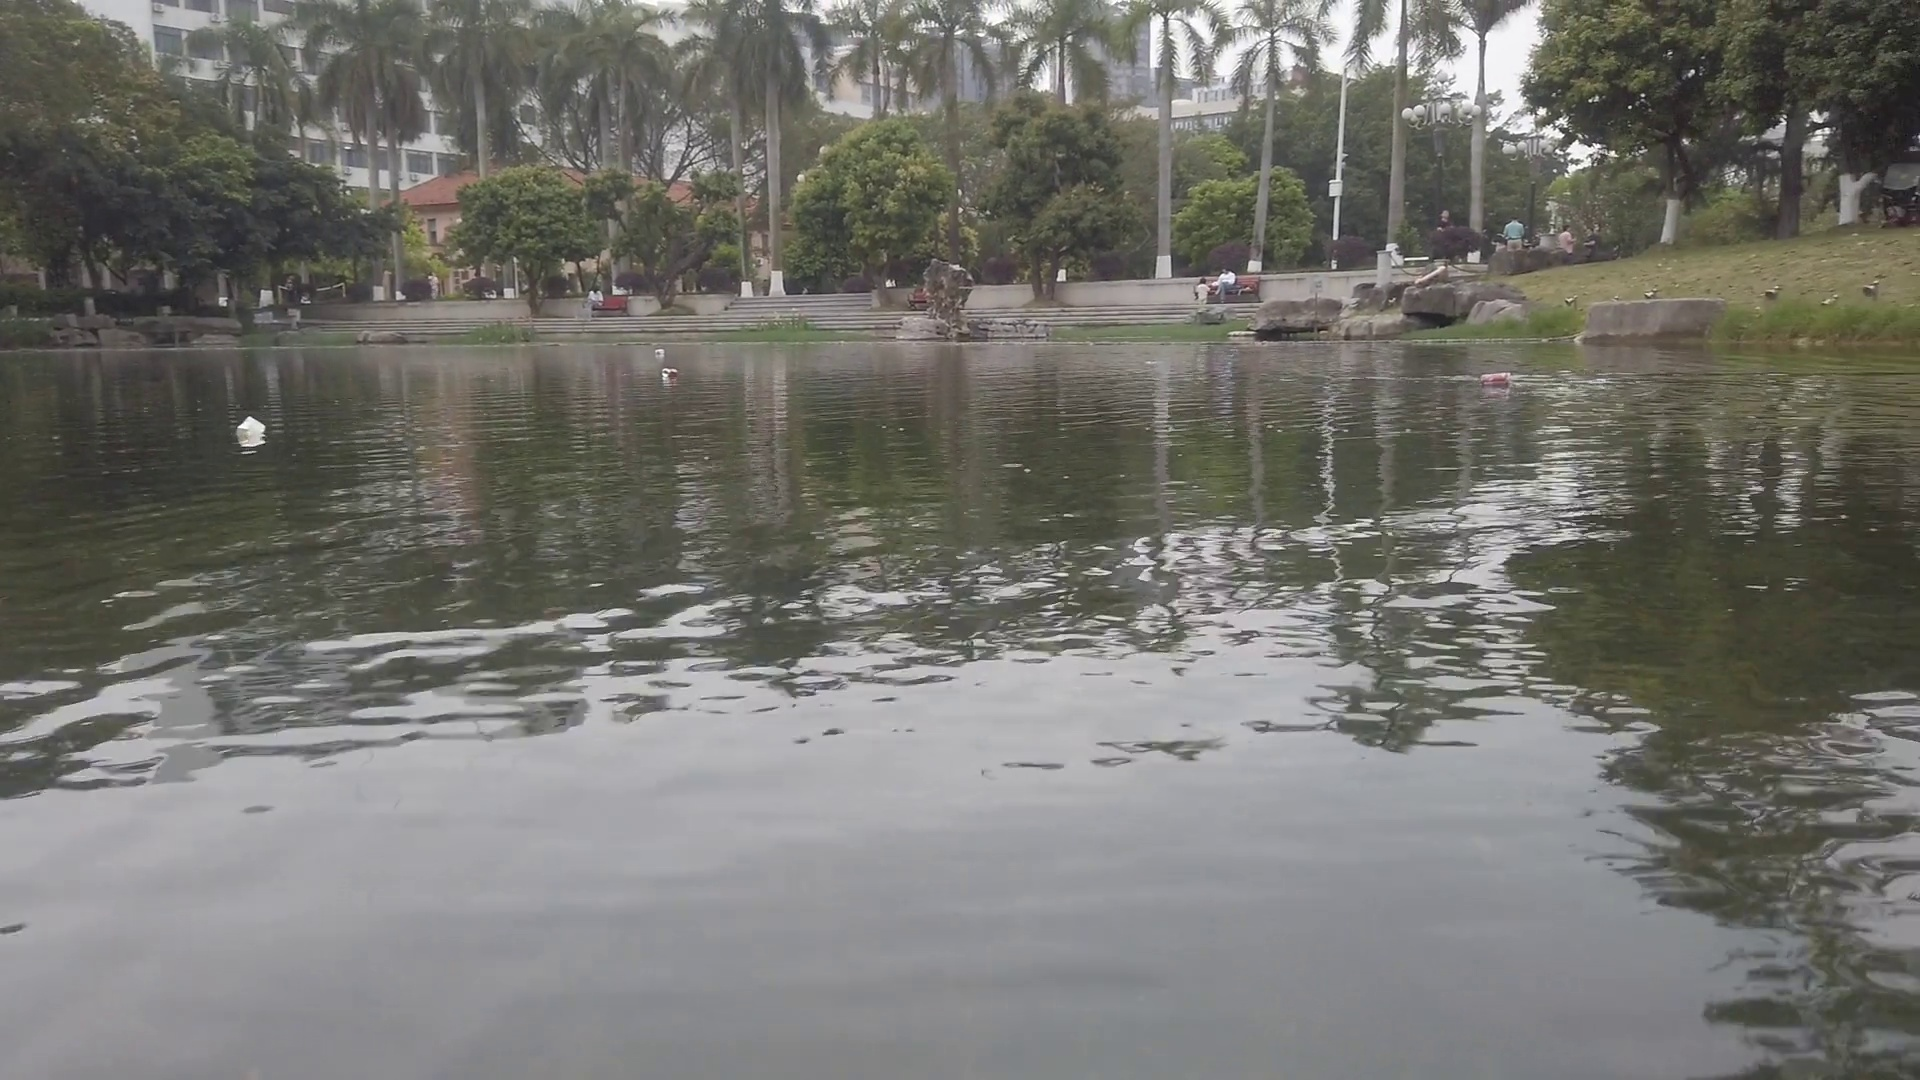bottle: (662, 367, 676, 378), (655, 347, 666, 353)
carton: (235, 415, 265, 444)
